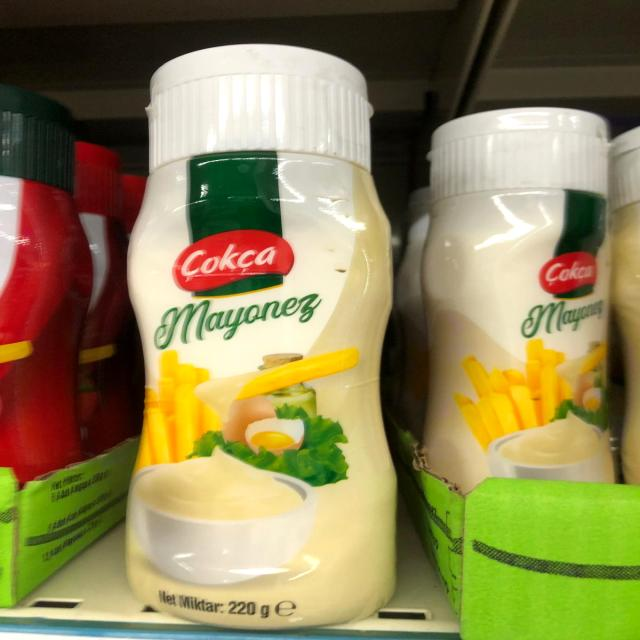mayonnaise: (102, 40, 406, 630), (416, 101, 625, 497)
